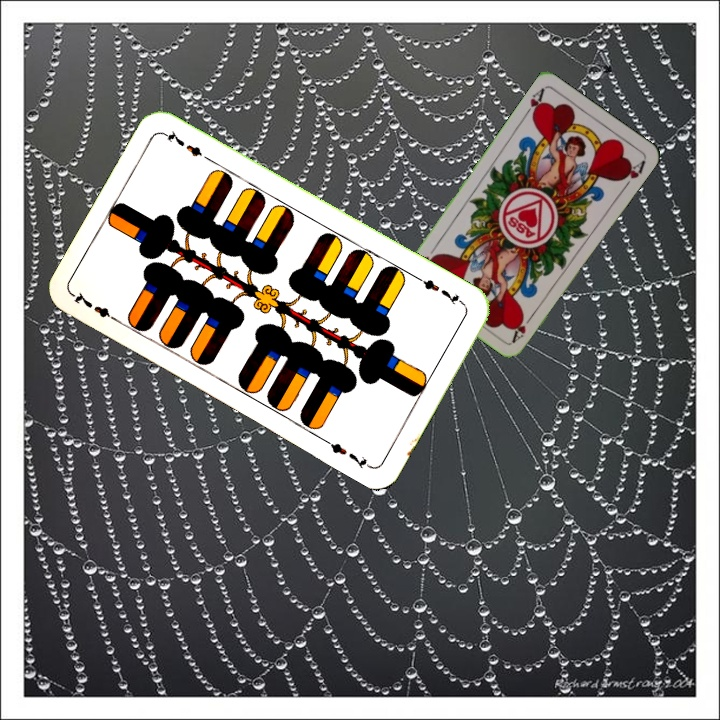E7: (69, 288, 123, 326), (413, 272, 467, 308)
HA: (519, 84, 547, 123), (508, 308, 537, 344)
